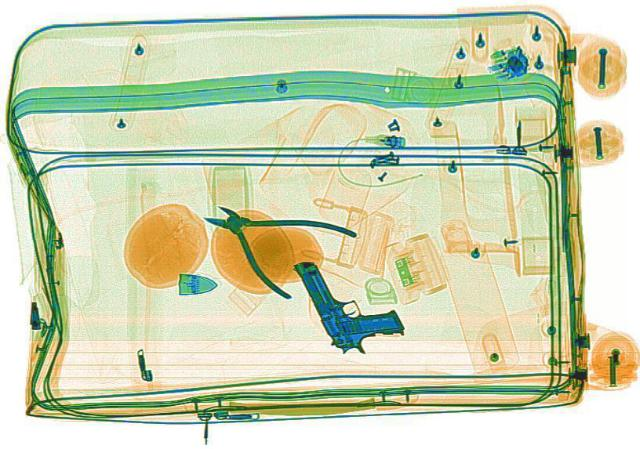Gun: (286, 246, 412, 358)
Pliers: (170, 178, 364, 299)
